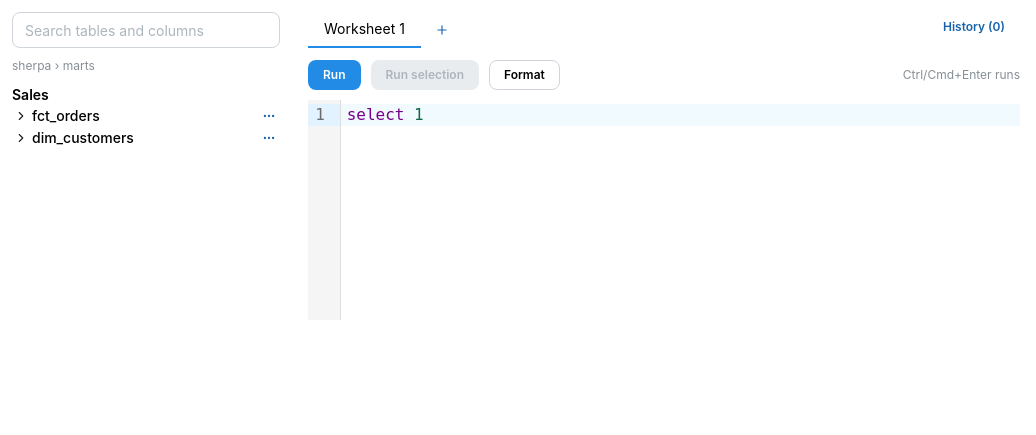
Test: Explorer results › a busy error has its own title
Click the button "Run": (334,75) [308,60,360,90]
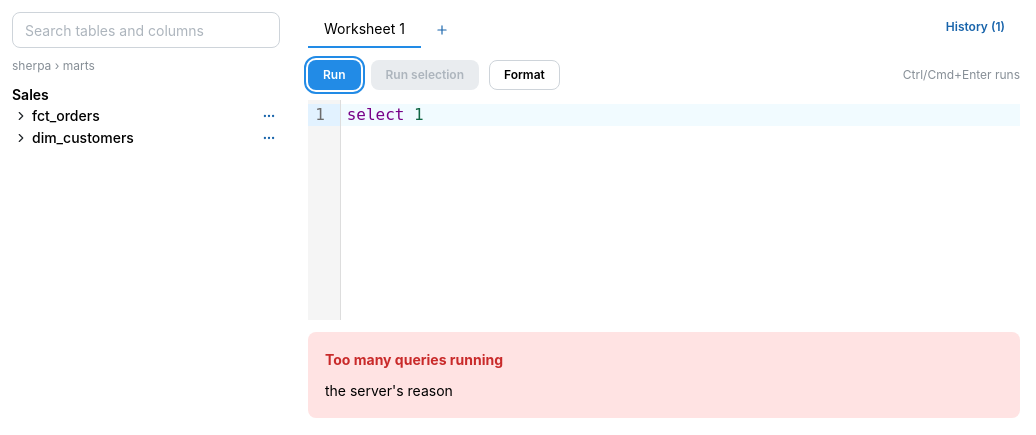
Result: the text "Too many queries running" is shown at [325,349,503,371]
Result: the text "the server's reason" is shown at [325,382,453,399]
